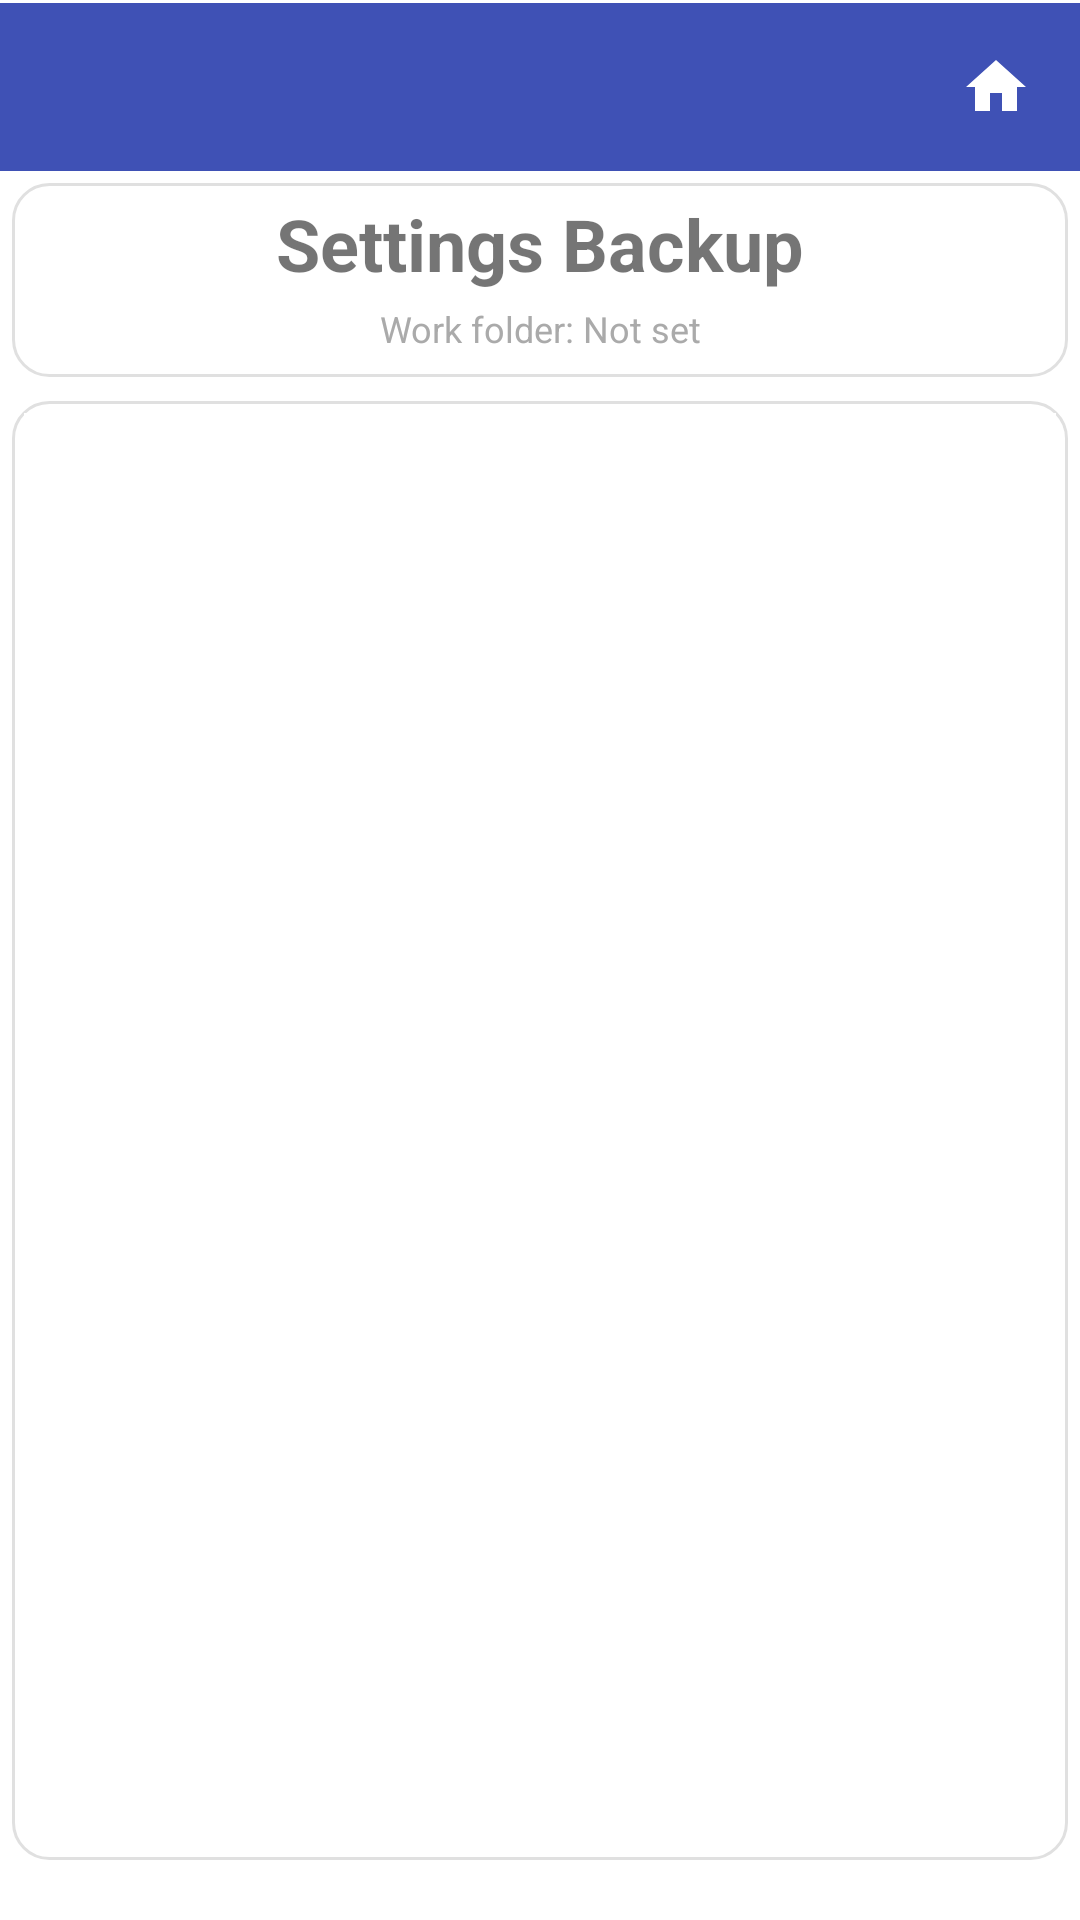

Named icons in this screenshot (1080px×1920px) and their centers, [x,y]:
Home: [996,85]
